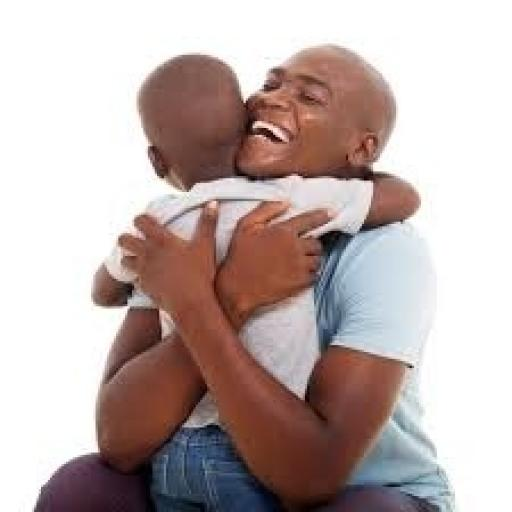hugging: (20, 41, 460, 510)
